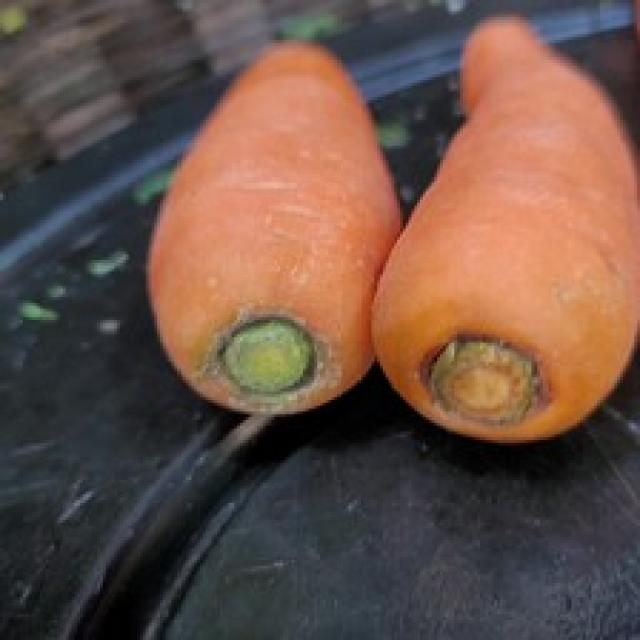carrot: (375, 19, 640, 447), (144, 39, 403, 415)
